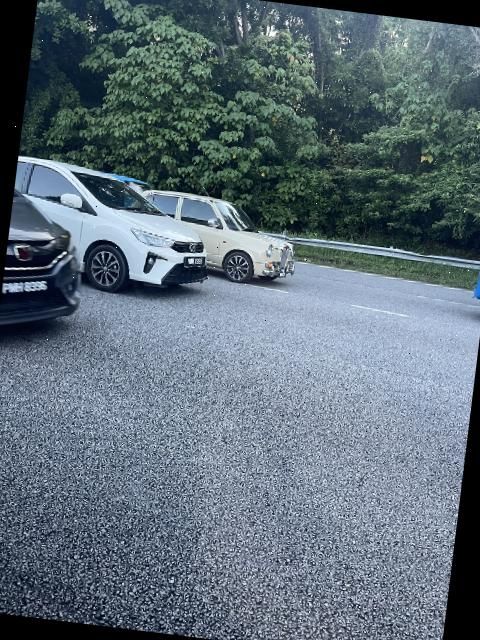License_Plate: (2, 272, 53, 307), (180, 254, 210, 273)
car: (5, 144, 221, 302), (137, 190, 296, 287), (1, 185, 93, 352)
